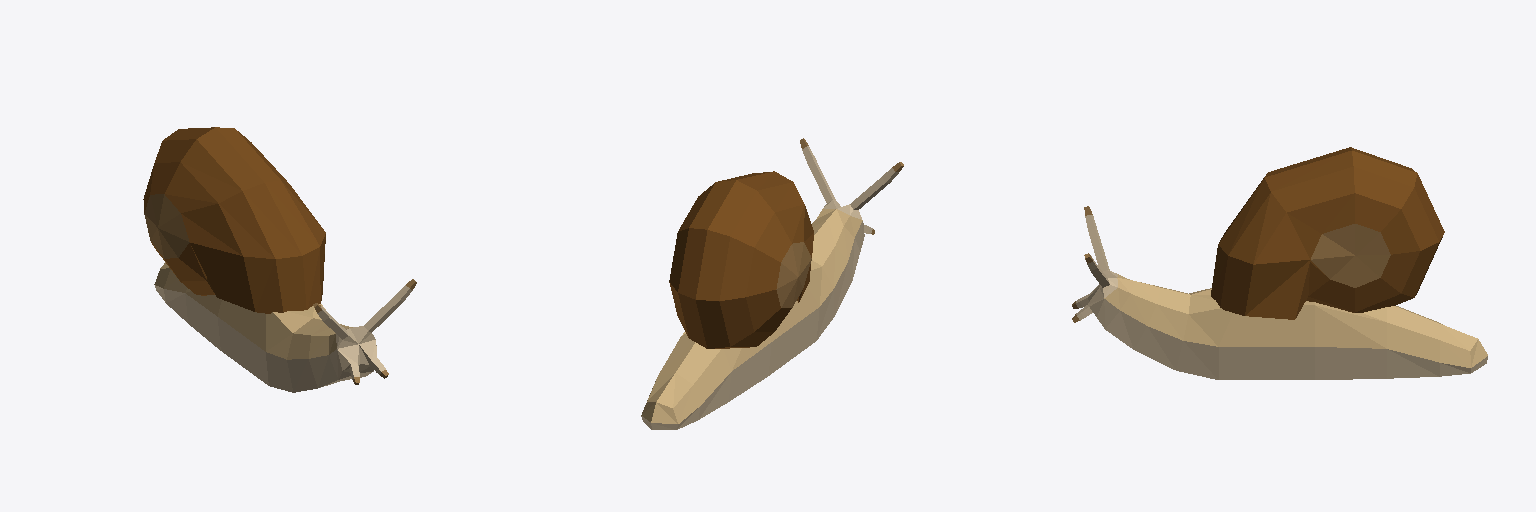
3 renders of one model, left to right at view 1: azimuth 30°, elevation 25°; view 2: azimuth 150°, elevation 25°; view 3: azimuth 270°, elevation 25°, orthographic.
Parts seen in each view (by area): view 1: Mesh_Snail; view 2: Mesh_Snail; view 3: Mesh_Snail.
Boxes of the visible parts, x1,y1,x2,y2 form: Mesh_Snail: [143, 127, 416, 392]; Mesh_Snail: [641, 138, 903, 429]; Mesh_Snail: [1072, 147, 1487, 379].
Size of the model in its own units: 0.6186 by 0.9512 by 1.74.
Materials: 1 (1 with a texture image).